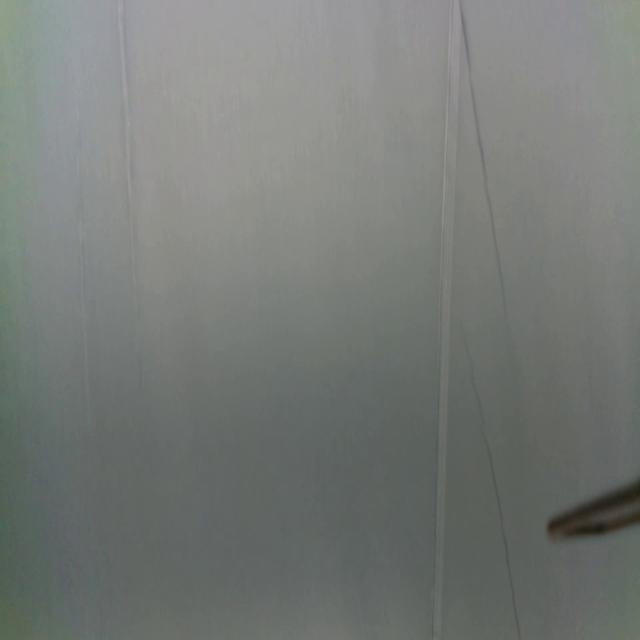crease: (458, 324, 522, 638), (431, 0, 459, 639), (462, 2, 510, 319), (117, 0, 142, 312), (75, 208, 94, 442)
